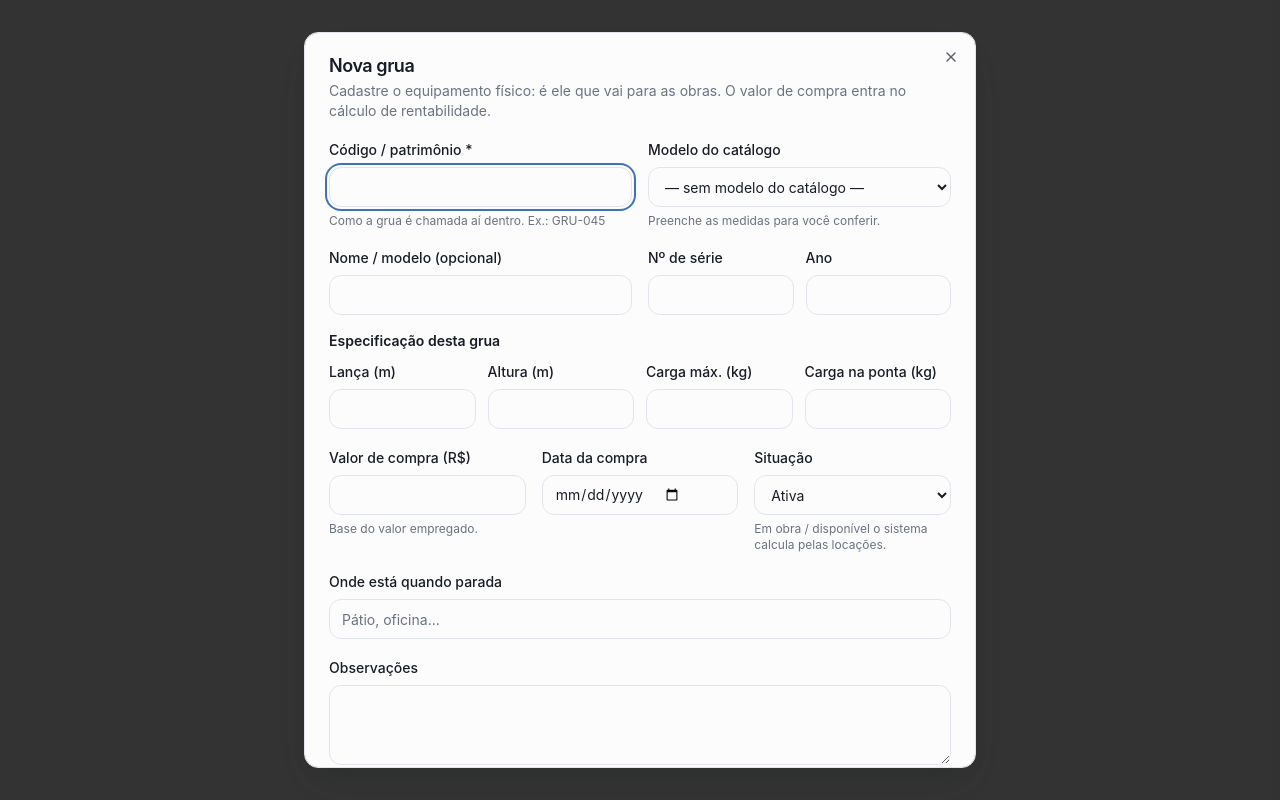
Test: cadastrar grua › código repetido (sem diferenciar maiúsculas) é recusado antes de ir ao banco
In the field labelled "Código / patrimônio *": (480, 187) [329,167,632,207], type "gru-001"
(page scrolled)
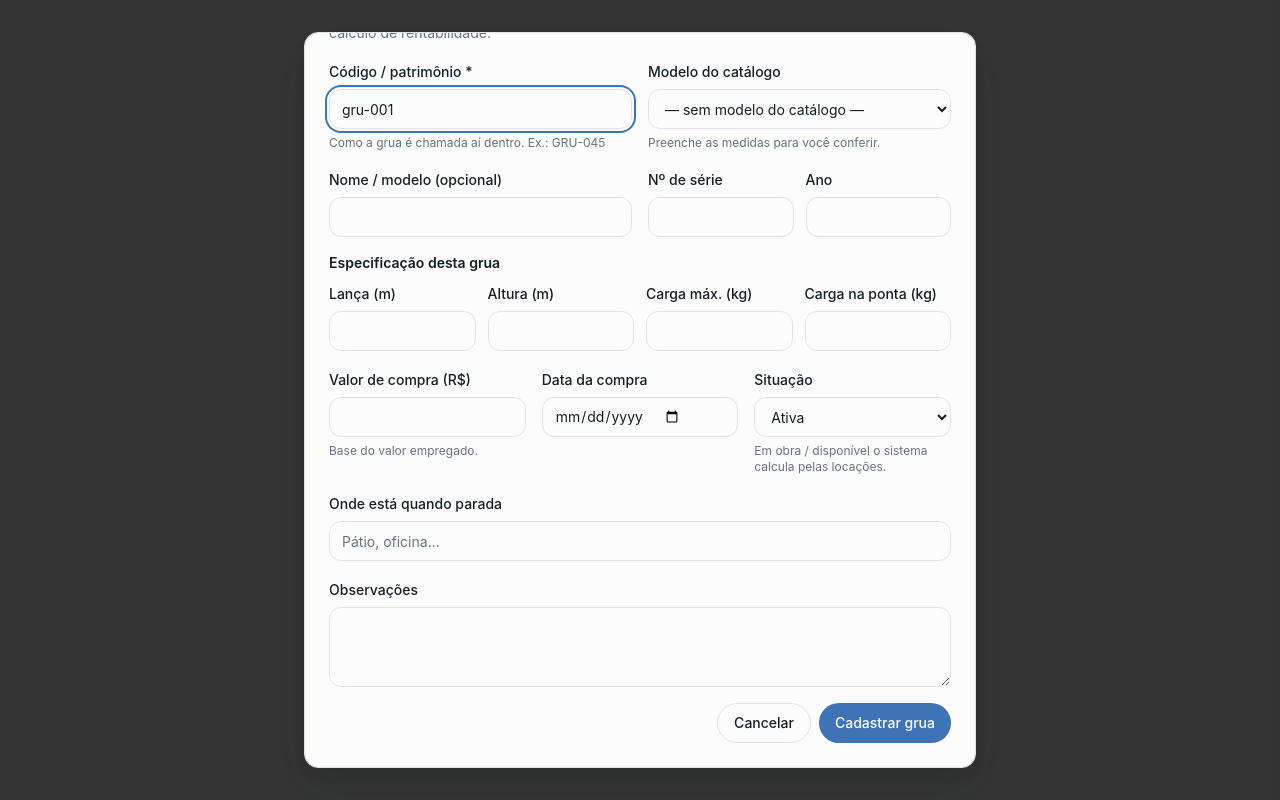
Click the button "Cadastrar grua": (885, 723) [819,703,951,743]
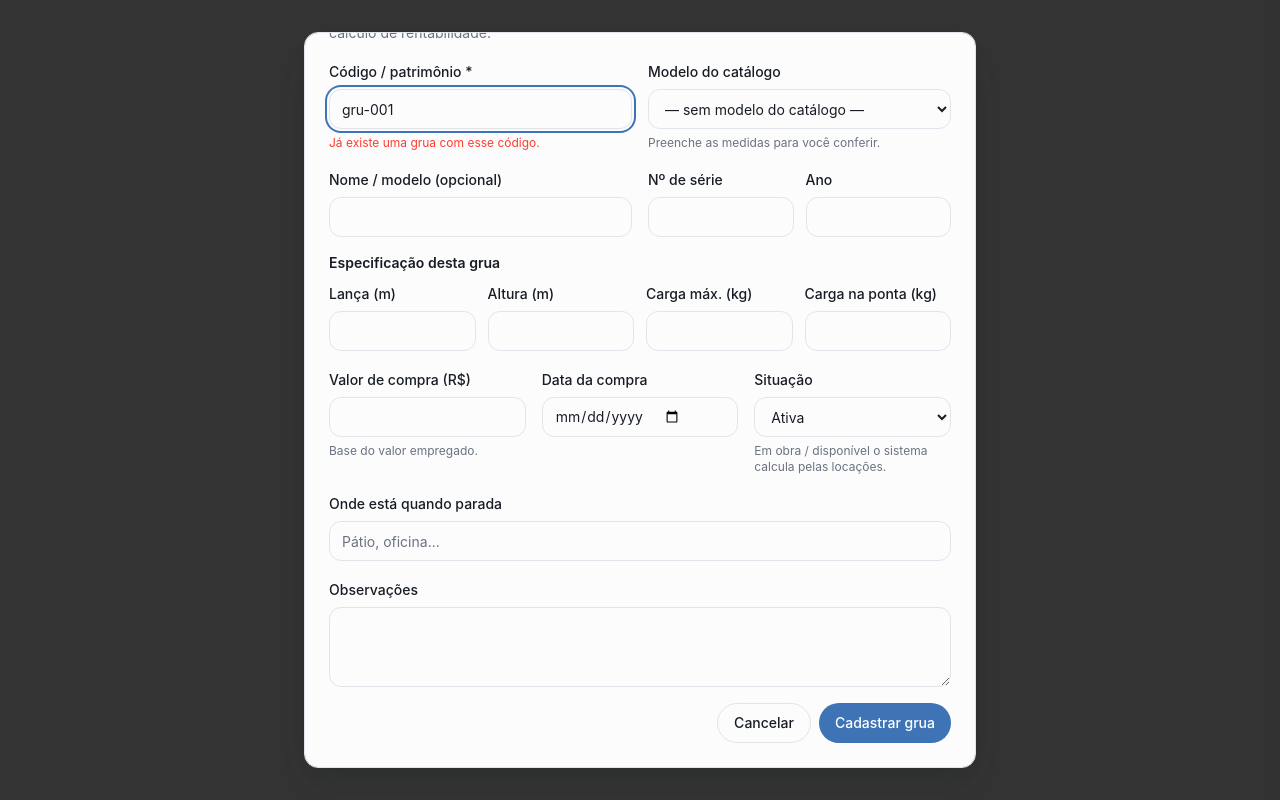
Expected: the text "Já existe uma grua com esse código." is shown, [329,135,540,150]
